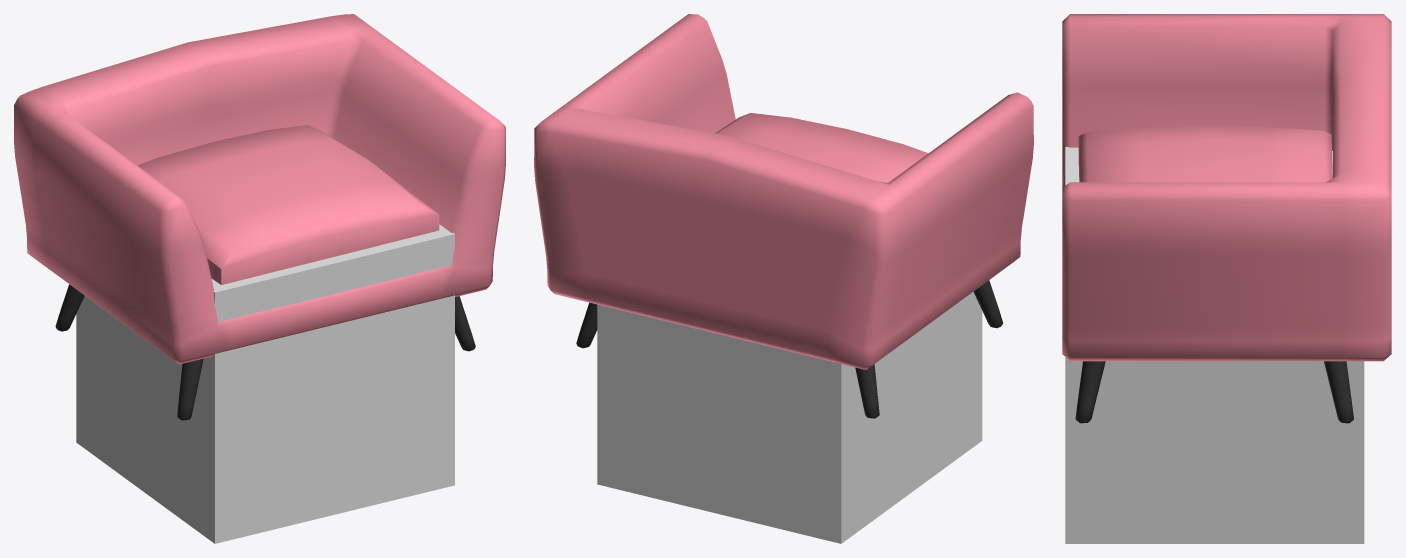
Rendered from Couch.glb.
3 renders of one model, left to right at view 1: azimuth 30°, elevation 25°; view 2: azimuth 150°, elevation 25°; view 3: azimuth 270°, elevation 25°, orthographic. The views are drawn at different scales.
Parts seen in each view (by area): view 1: Couch_Small1, Cube; view 2: Couch_Small1, Cube; view 3: Couch_Small1, Cube.
Boxes of the visible parts, <box> form: Couch_Small1: <box>14,14,505,420</box>; Cube: <box>76,224,454,543</box>; Couch_Small1: <box>534,14,1033,418</box>; Cube: <box>597,291,982,543</box>; Couch_Small1: <box>1062,14,1391,423</box>; Cube: <box>1065,147,1364,543</box>.
Bounding box in the file's own units: 2.89 × 2.9 × 2.2.
